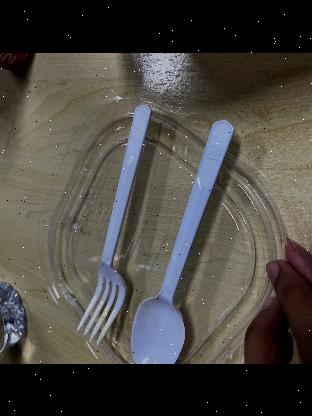Others: (126, 112, 242, 364), (72, 100, 154, 348)
